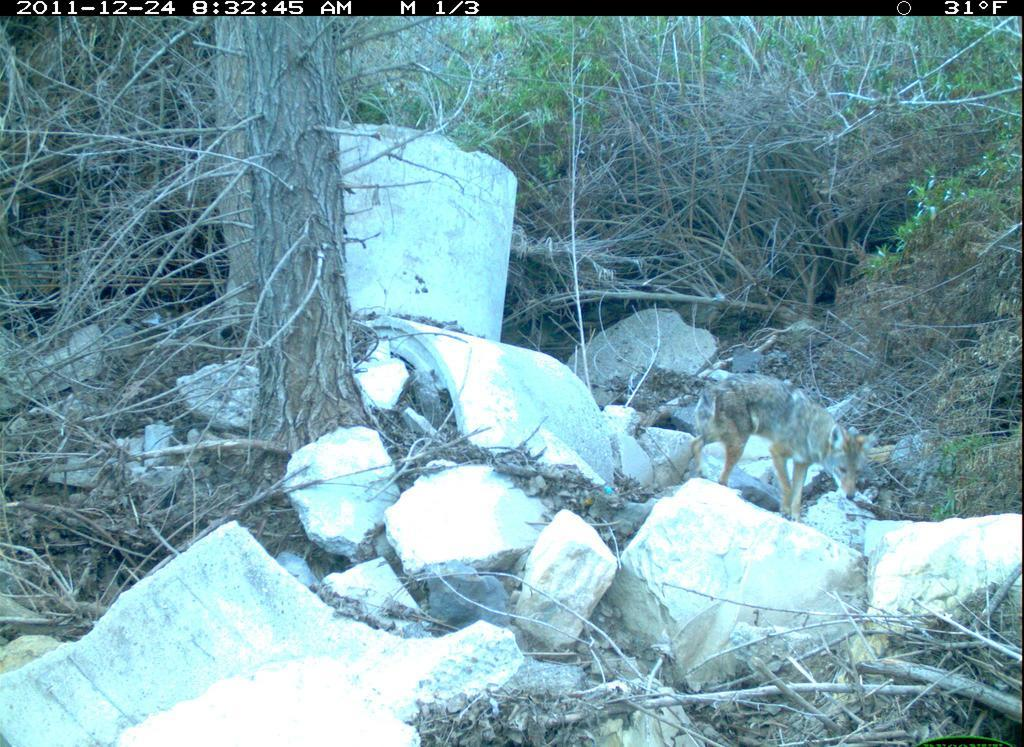coyote: (681, 367, 884, 530)
